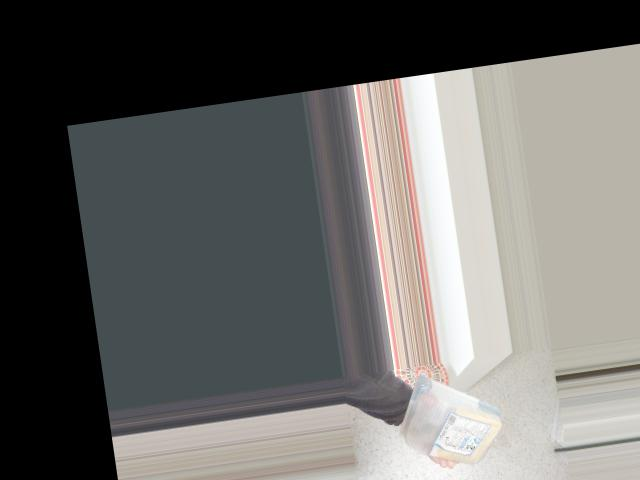cheese: (387, 358, 515, 480)
